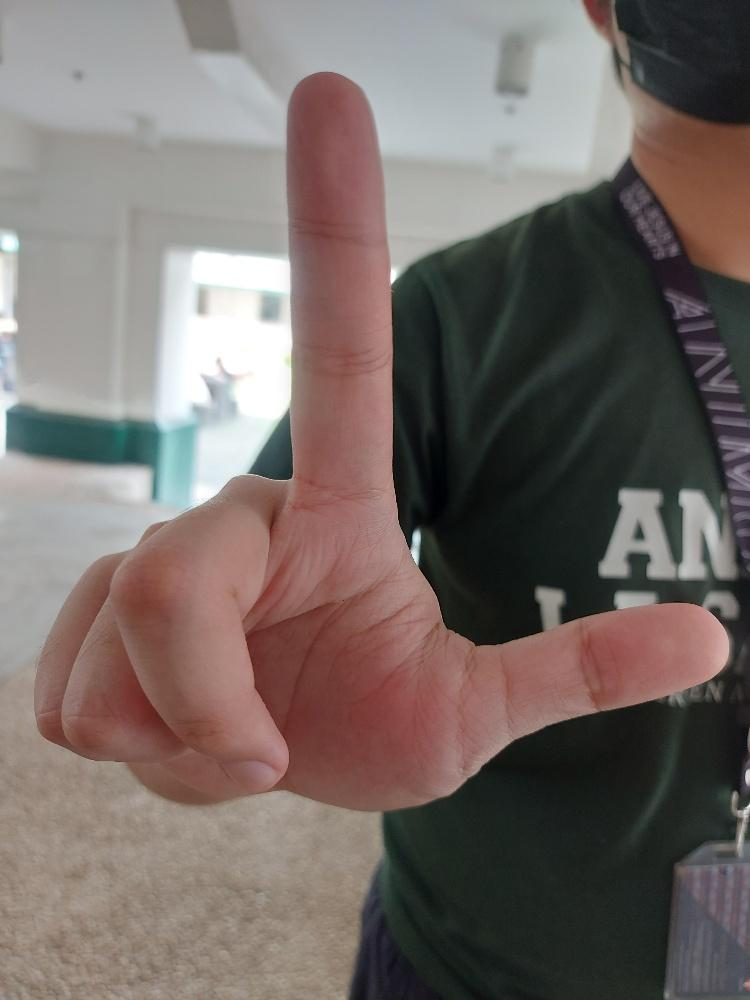l: (29, 66, 734, 812)
